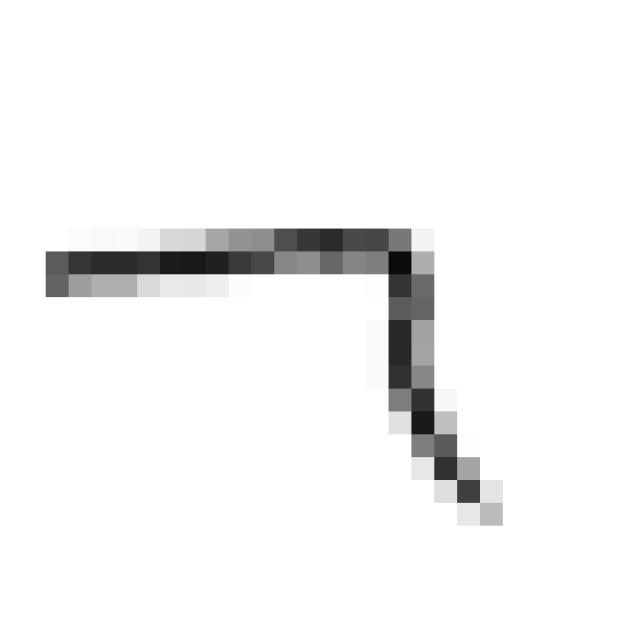6 -six-: (27, 213, 519, 541)
